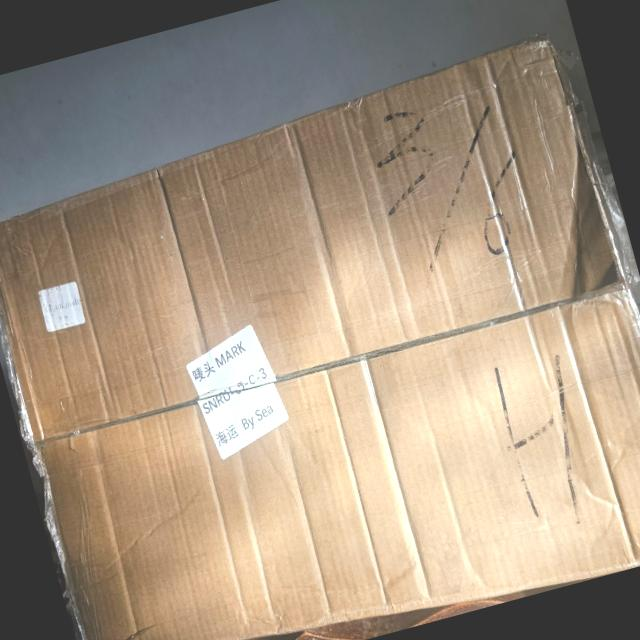carton_box: (0, 41, 640, 640)
export_mark_label: (176, 336, 294, 454)
package_damage: (524, 133, 640, 336)
